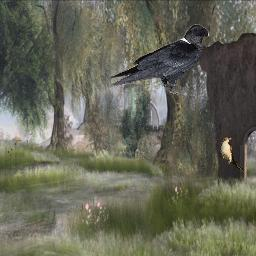Crow: (107, 24, 212, 98)
Cuckoo: (220, 137, 244, 172)
